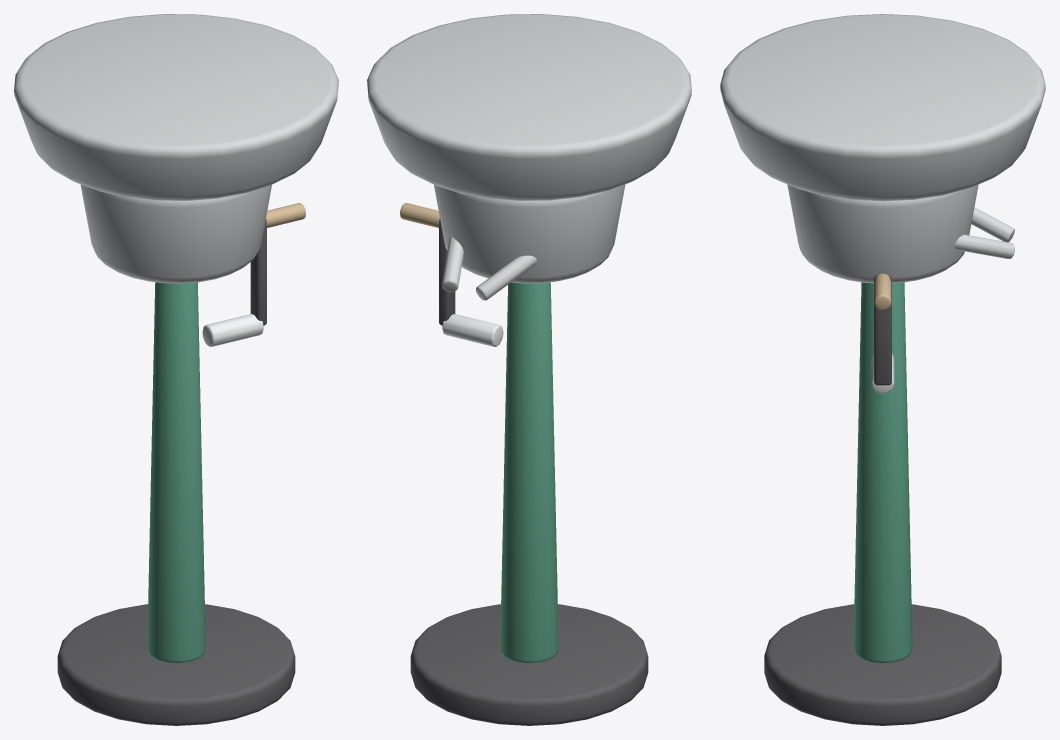
The model's file is Wirowka.fbx.
3 views of the same model, side by side, from view 1: azimuth 30°, elevation 25°; view 2: azimuth 150°, elevation 25°; view 3: azimuth 270°, elevation 25° (orthographic).
Parts seen in each view (by area): view 1: Wirowka_Korpus, Wirowka_Korba_ObrotX; view 2: Wirowka_Korpus, Wirowka_Korba_ObrotX; view 3: Wirowka_Korpus, Wirowka_Korba_ObrotX.
Boxes of the visible parts, x1,y1,x2,y2 form: Wirowka_Korpus: (14, 14, 338, 725); Wirowka_Korba_ObrotX: (202, 203, 305, 346); Wirowka_Korpus: (367, 14, 691, 725); Wirowka_Korba_ObrotX: (400, 203, 503, 346); Wirowka_Korpus: (720, 14, 1045, 725); Wirowka_Korba_ObrotX: (871, 273, 894, 393).
Bounding box in the file's own units: 54.83 × 111 × 54.83.
